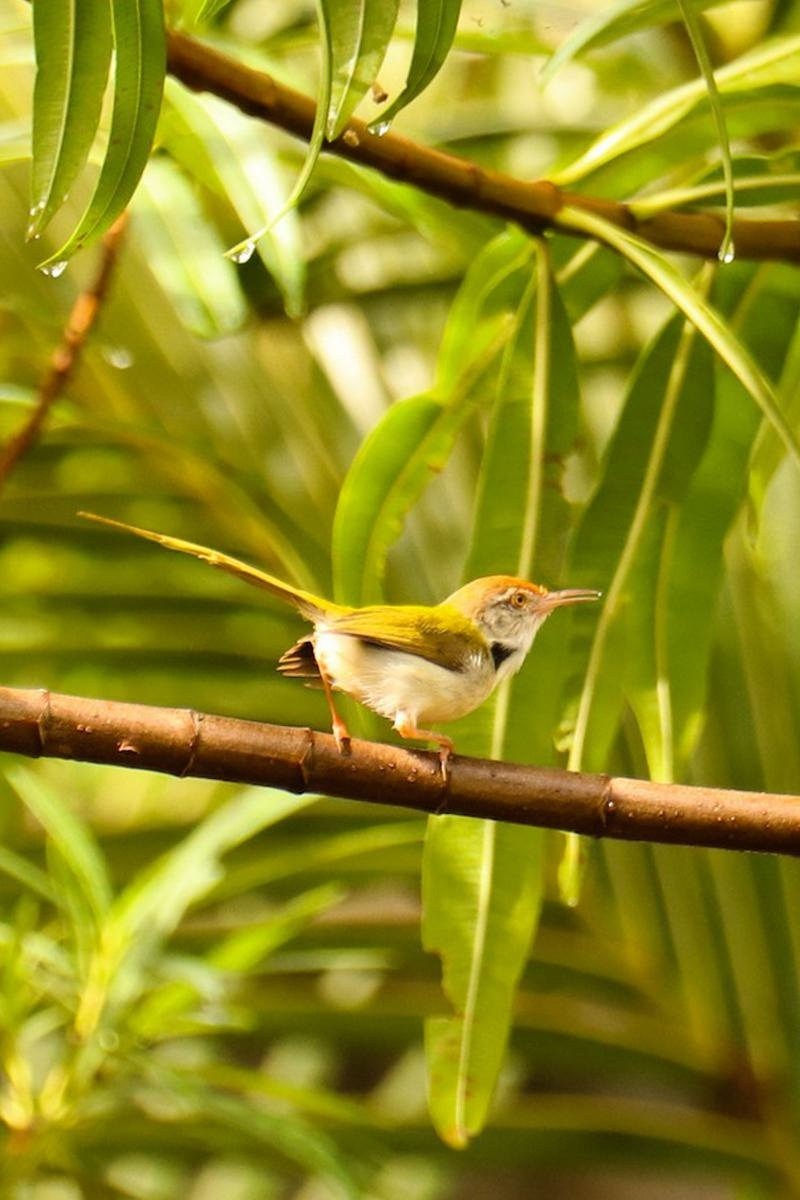tailorbird: (81, 478, 642, 783)
